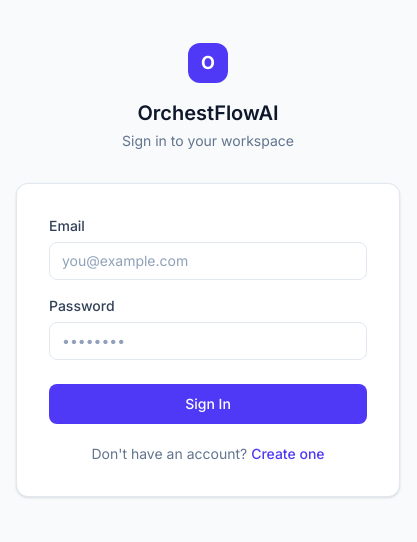
Test: LoginPage › displays an error for invalid credentials
Type "invalid@example.com" into the field labelled "Email".
click(208, 261); type("invalid@example.com")  # box [49,242,367,280]
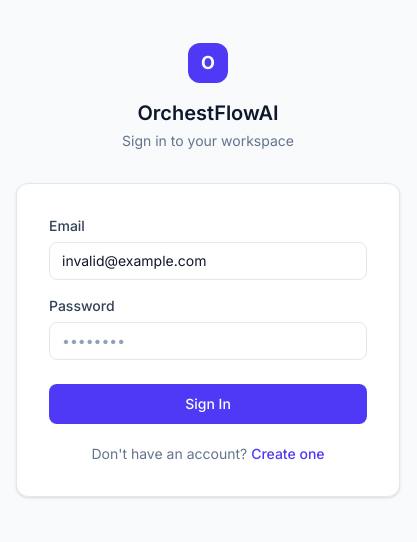
Type "wrong-password" into the password field labelled "Password".
click(208, 341); type("wrong-password")  # box [49,322,367,360]
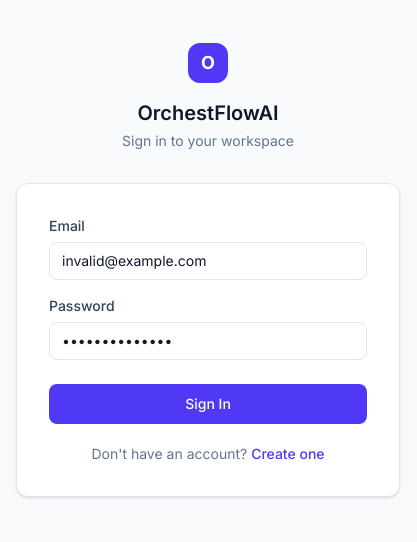
Click the button "Sign In".
click(208, 404)  # box [49,384,367,424]
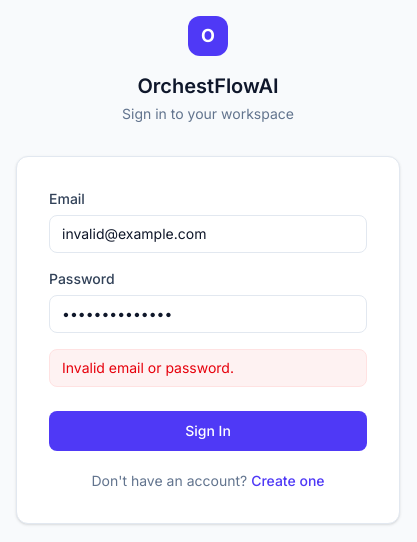
Check: the text "Invalid email or password." is shown, box [49,349,367,387]
